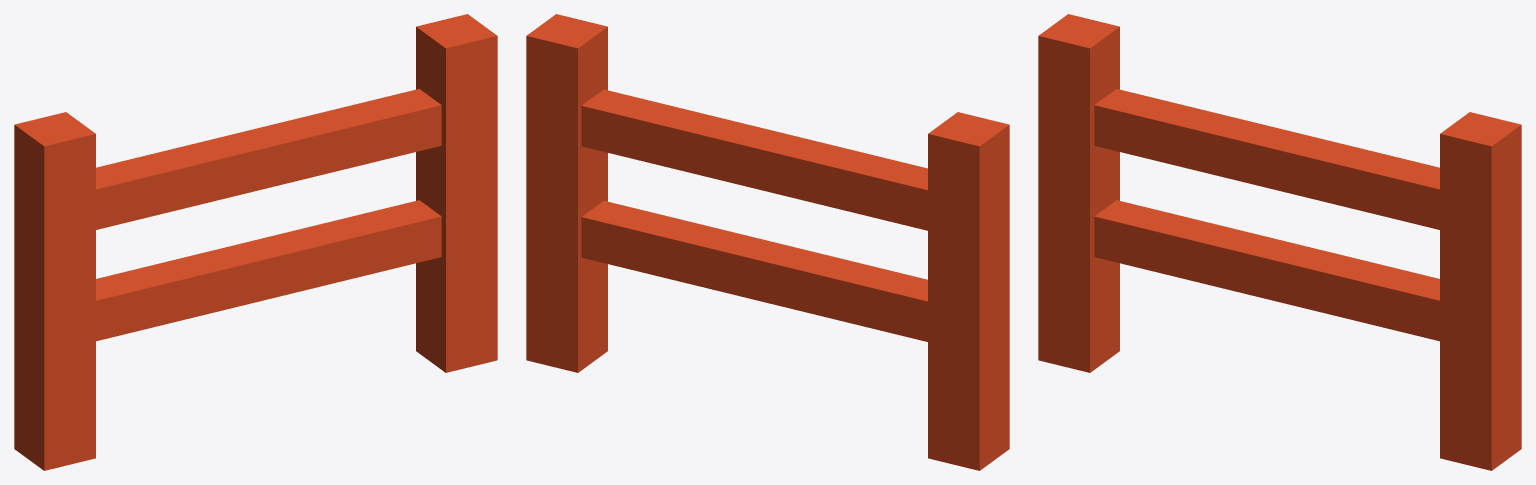
File: Fence3.fbx
3 views of the same model, side by side, from view 1: azimuth 30°, elevation 25°; view 2: azimuth 150°, elevation 25°; view 3: azimuth 330°, elevation 25° (orthographic).
Visible parts, largest first — view 1: Fence2; view 2: Fence2; view 3: Fence2.
Part boxes in pixels (bbox=[...]): Fence2: bbox=[14, 14, 497, 470]; Fence2: bbox=[526, 14, 1009, 470]; Fence2: bbox=[1038, 14, 1521, 470].
Bounding box in the file's own units: 3508 × 2400 × 400.
